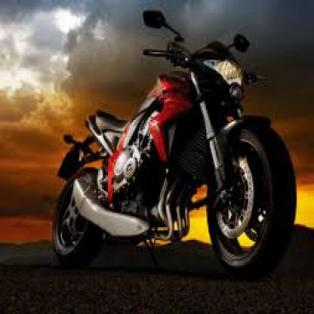Motocicleta: (36, 8, 300, 278)
